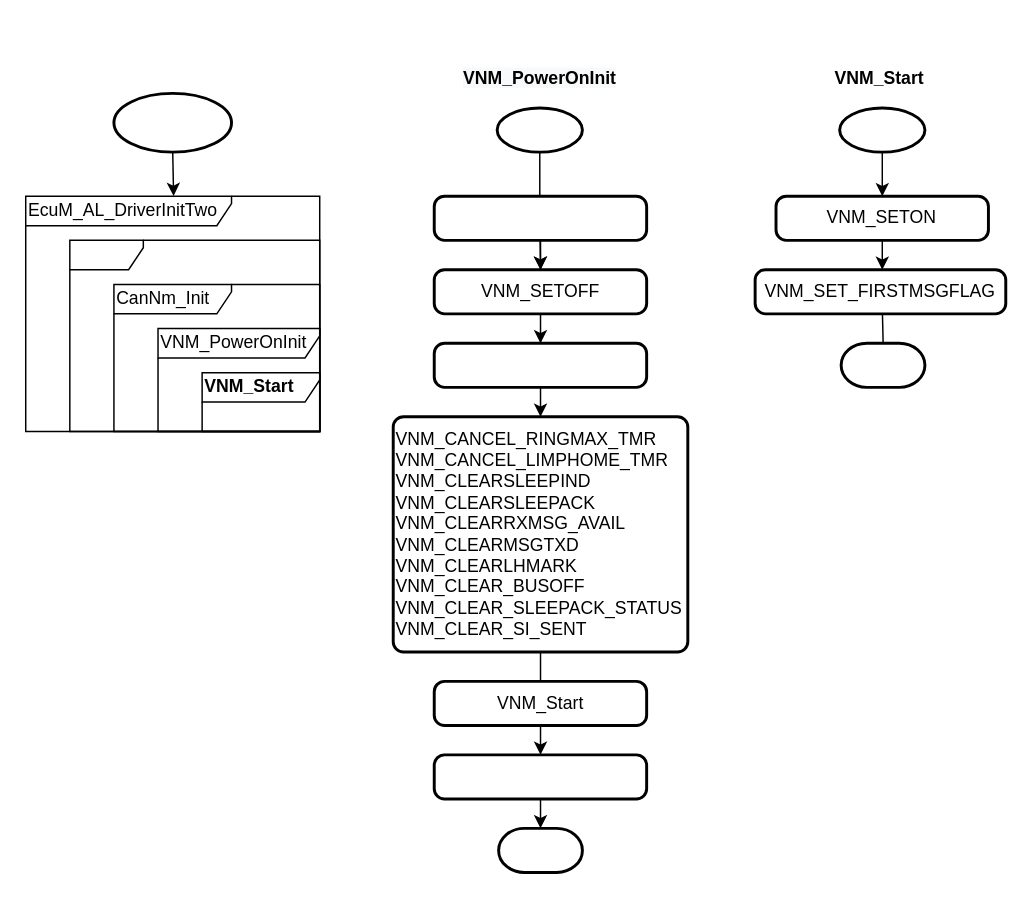
This 1033x898 diagram has some shape labels left out. The centre of each missing label's shape, as x and y in pixels:
"Ccl_Init" belongs at (194,335).
"System On" belongs at (172,122).
"VNM_Clear_Node_data" belongs at (539,776).
"VNM_SET_SLEEP_TMR" belongs at (539,217).
"VNM_SETACTIVE" belongs at (539,364).
